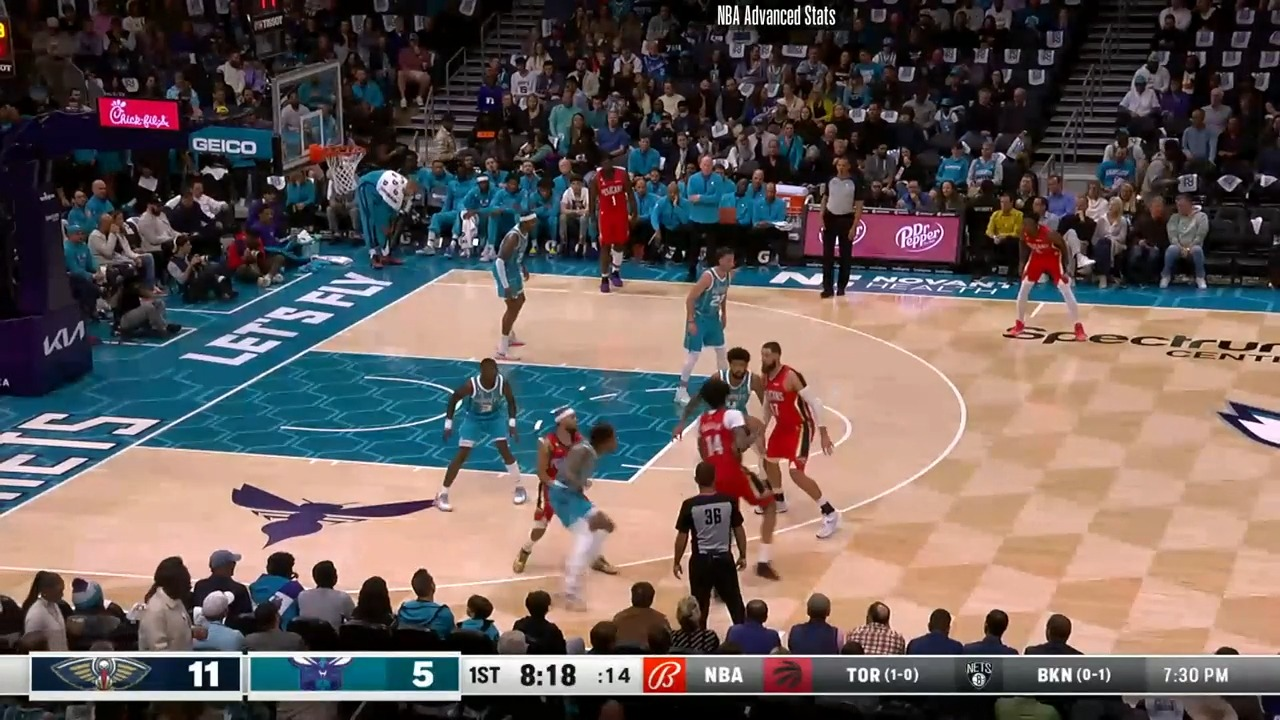net: (309, 138, 371, 188)
player: (675, 378, 781, 583), (750, 337, 841, 539), (431, 353, 531, 514), (544, 423, 622, 611), (1008, 205, 1088, 347), (512, 405, 582, 566), (680, 246, 747, 401), (578, 152, 644, 300), (669, 342, 771, 425), (491, 213, 546, 362)
referee: (673, 457, 759, 626), (813, 153, 864, 305)
